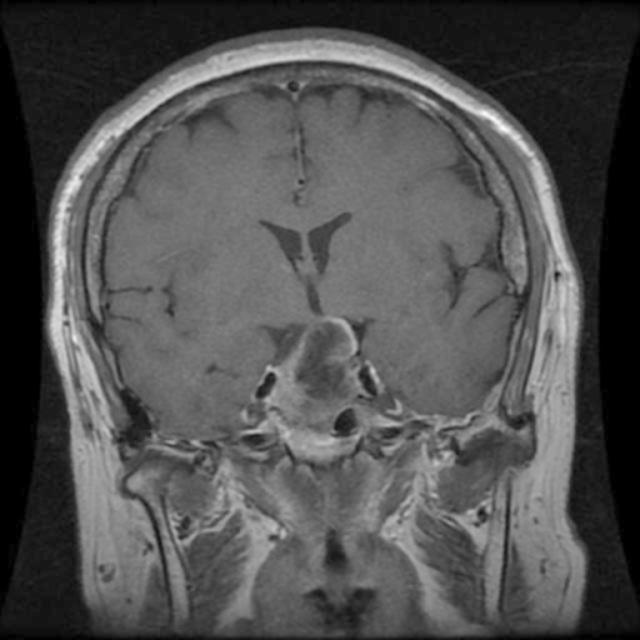no tumor: (294, 315, 375, 410)
